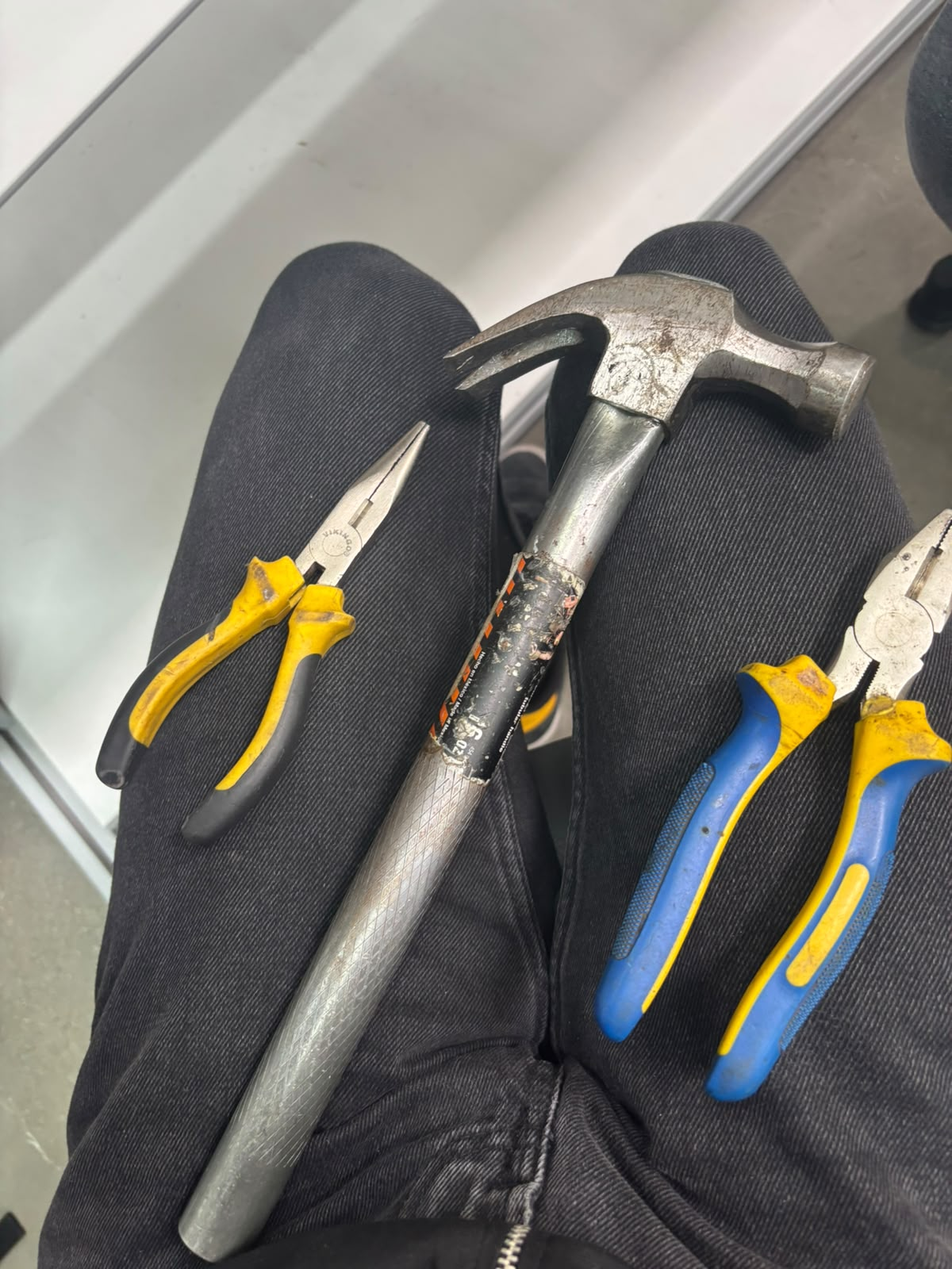hammer: (423, 176, 889, 508)
plier: (704, 470, 952, 1101), (56, 364, 441, 670)
